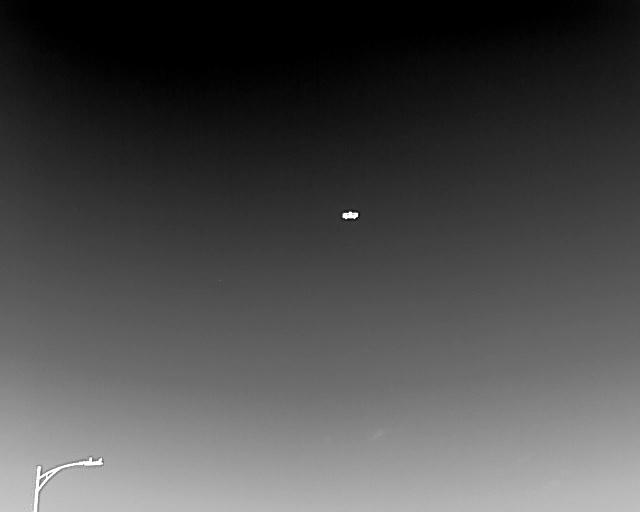fpv-drone: (341, 209, 359, 221)
